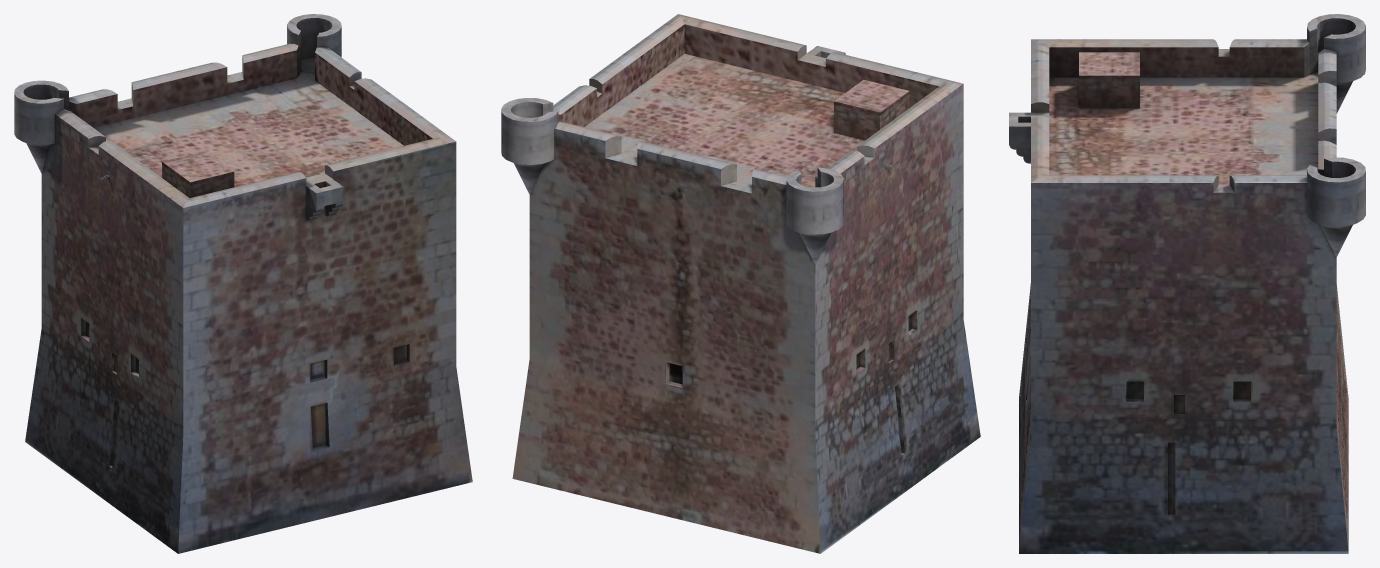
File: torreon_obj.obj
3 views of the same model, side by side, from view 1: azimuth 30°, elevation 25°; view 2: azimuth 150°, elevation 25°; view 3: azimuth 270°, elevation 25° (orthographic). The views are drawn at different scales.
Parts seen in each view (by area): view 1: Box001; view 2: Box001; view 3: Box001.
Boxes of the visible parts, bbox=[...] form: Box001: bbox=[14, 14, 472, 553]; Box001: bbox=[501, 14, 980, 553]; Box001: bbox=[1009, 14, 1365, 553].
Bounding box in the file's own units: 10.87 × 11.39 × 9.74.
